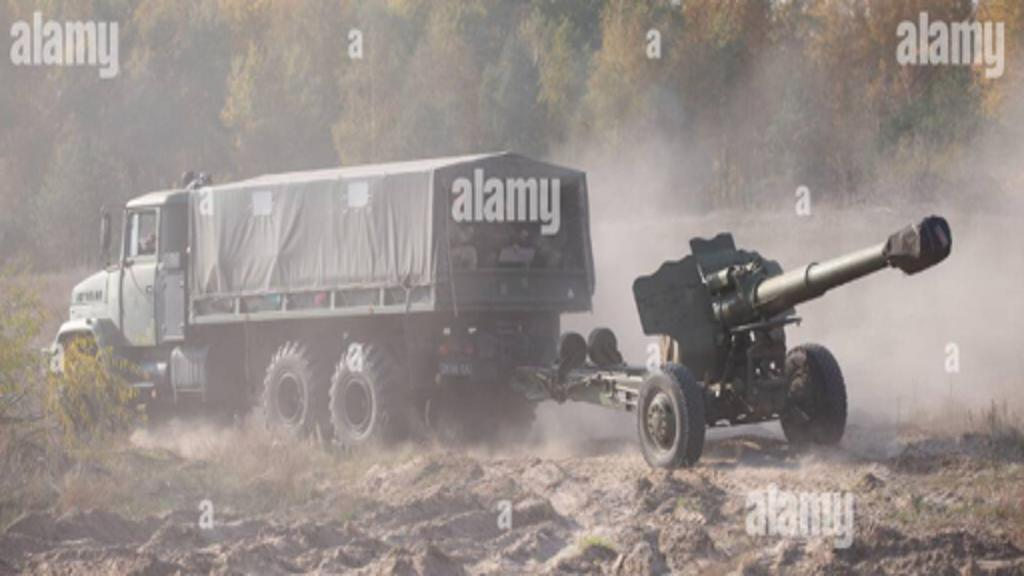ART: (598, 205, 952, 468)
TRUCK: (36, 146, 596, 448)
